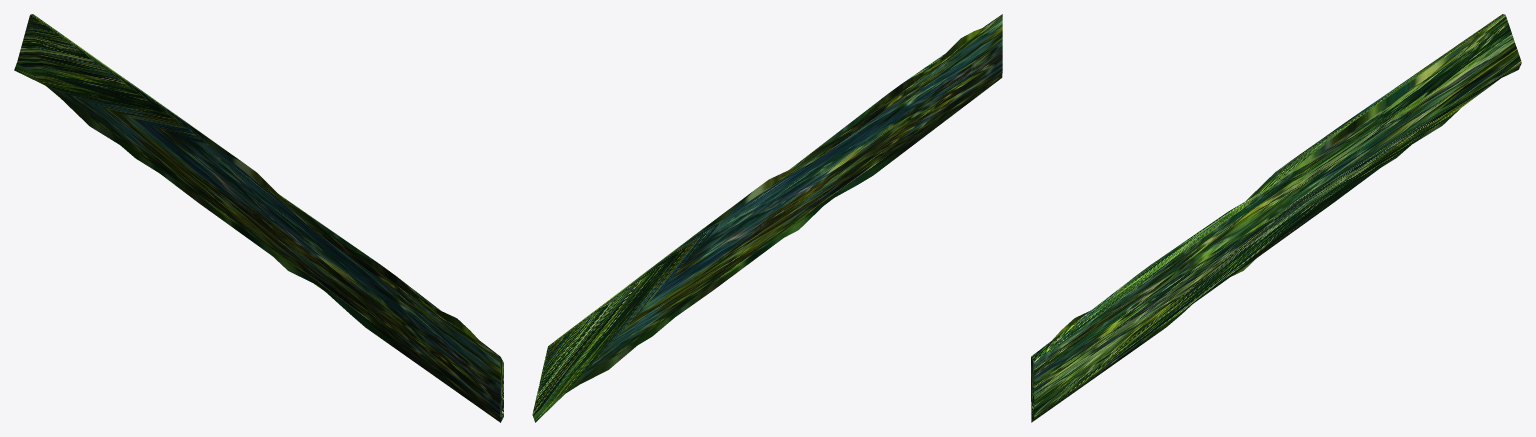
The picture shows the model from 3 angles, left to right: view 1: azimuth 30°, elevation 25°; view 2: azimuth 150°, elevation 25°; view 3: azimuth 330°, elevation 25°; orthographic projection. The views are drawn at different scales.
Parts seen in each view (by area): view 1: algae_cube_Cube; view 2: algae_cube_Cube; view 3: algae_cube_Cube.
Boxes of the visible parts, x1,y1,x2,y2 form: algae_cube_Cube: [14, 14, 503, 422]; algae_cube_Cube: [532, 14, 1002, 422]; algae_cube_Cube: [1031, 14, 1521, 422].
Bounding box in the file's own units: 0.00875 × 0.1868 × 2.14.
